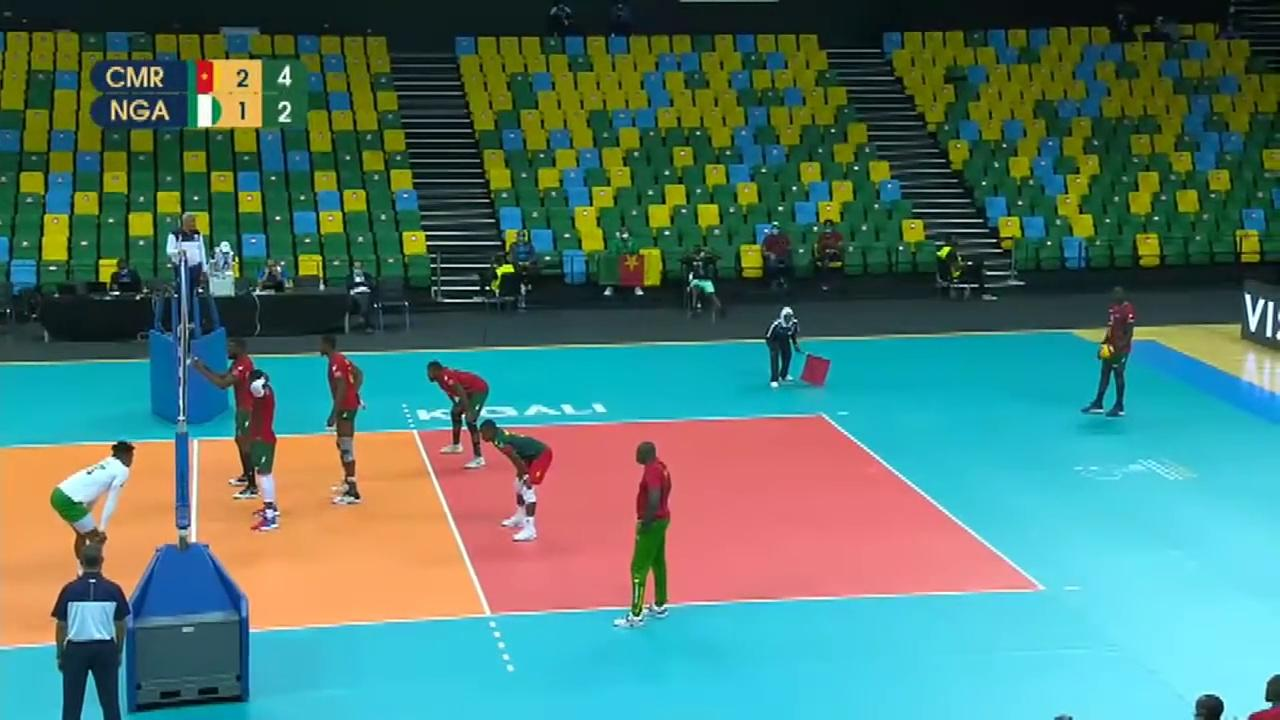player: (39, 428, 142, 583), (476, 420, 561, 540), (210, 334, 264, 495), (238, 364, 287, 536), (322, 336, 366, 503), (425, 360, 491, 469), (1086, 290, 1136, 414)
refree: (44, 542, 140, 720), (166, 211, 213, 325), (769, 304, 809, 391)
